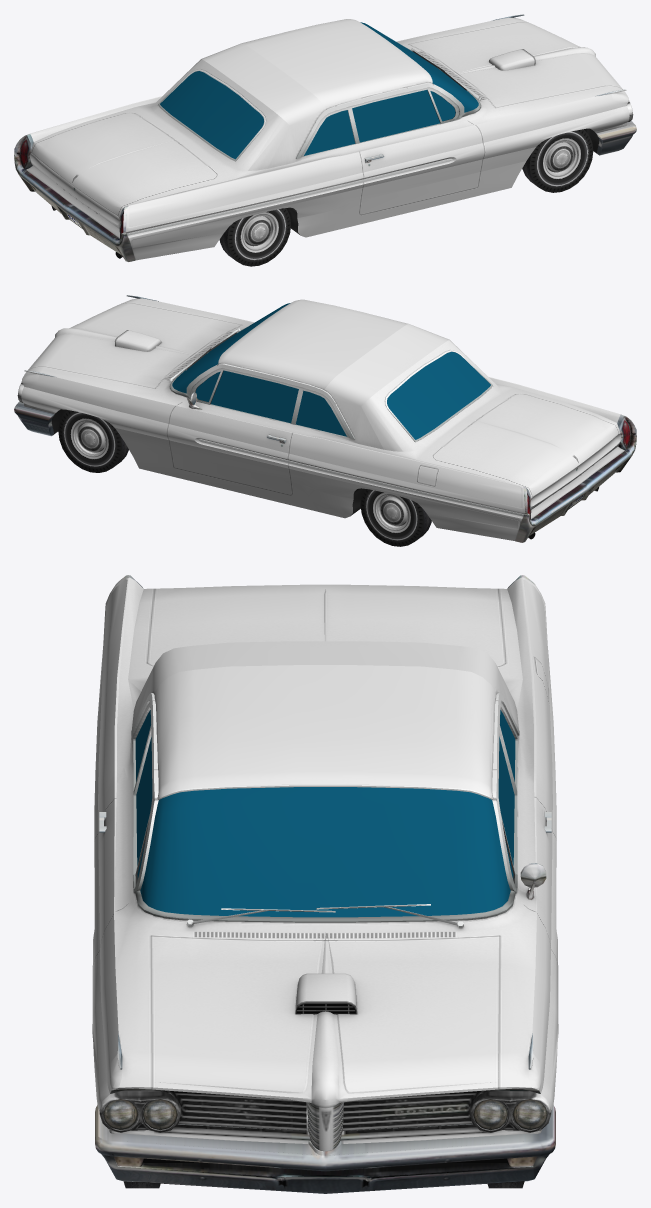
File: car1.glb
The picture shows the model from 3 angles, top to bottom: view 1: azimuth 30°, elevation 25°; view 2: azimuth 150°, elevation 25°; view 3: azimuth 270°, elevation 25°; orthographic projection. The views are drawn at different scales.
Visible parts, largest first — view 1: acmat1 (×6), acmat0; view 2: acmat1 (×6), acmat0; view 3: acmat1 (×7).
Part boxes in pixels (x1,y1,x2,y2): acmat1 (×6): [14, 14, 636, 261]; acmat0: [219, 129, 593, 266]; acmat1 (×6): [14, 295, 636, 542]; acmat0: [58, 410, 431, 546]; acmat1 (×7): [92, 575, 558, 1193].
Bounding box in the file's own units: 5.36 × 1.39 × 2.03.
2 materials, 2 textured.
